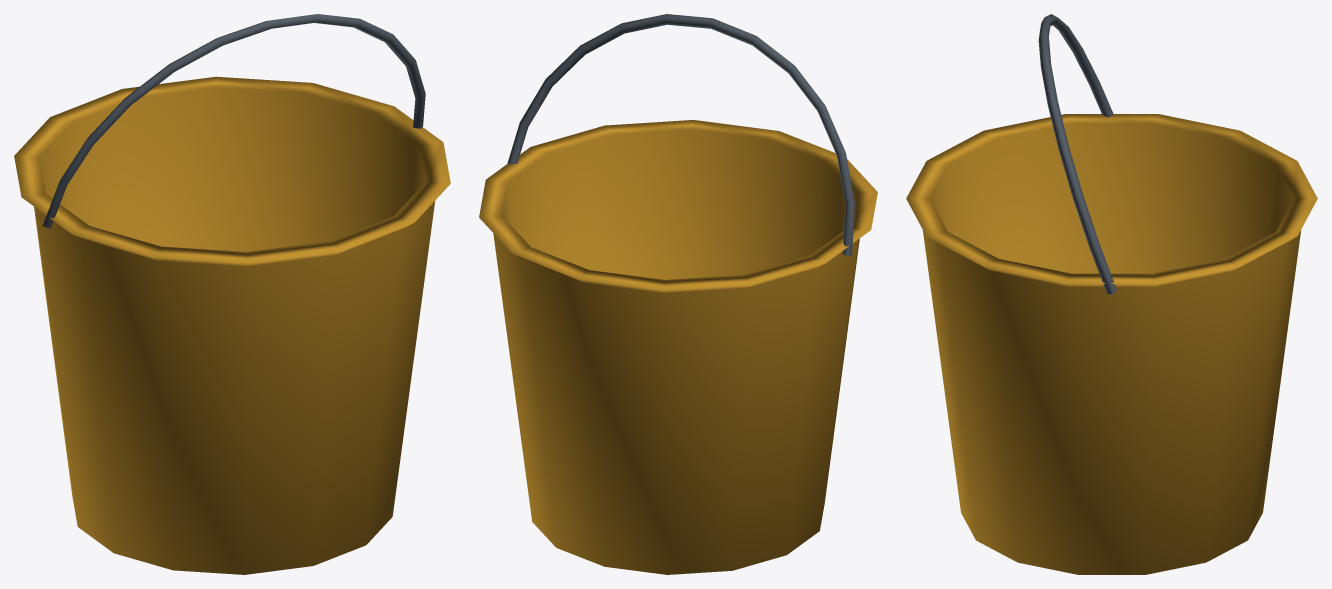
File: balde_amarelo.glb
3 views of the same model, side by side, from view 1: azimuth 30°, elevation 25°; view 2: azimuth 150°, elevation 25°; view 3: azimuth 270°, elevation 25° (orthographic). The views are drawn at different scales.
Visible parts, largest first — view 1: balde_amarelo_malha; view 2: balde_amarelo_malha; view 3: balde_amarelo_malha.
Part boxes in pixels (left/top/right/bottom): balde_amarelo_malha: left=14, top=14, right=450, bottom=574; balde_amarelo_malha: left=479, top=14, right=877, bottom=574; balde_amarelo_malha: left=906, top=14, right=1317, bottom=574.
Size of the model in its own units: 0.596 by 0.7699 by 0.6.
